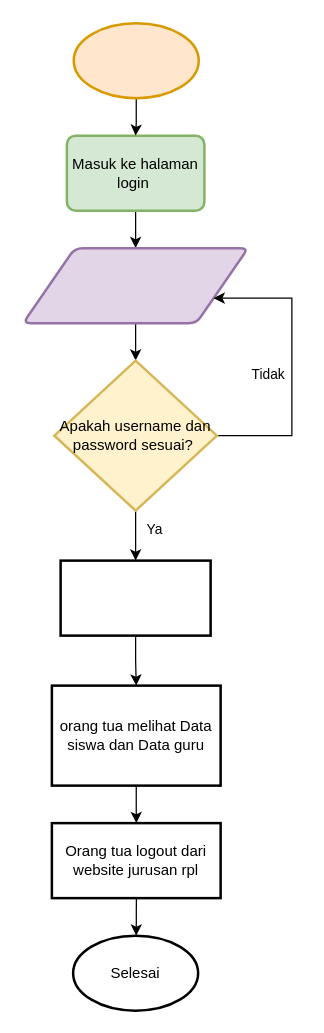
This 324x1033 diagram has some shape labels left out. The shapes that lost their labels are listed below. From the top down, each one's centre as x and y in pixels, then its label:
(135,60): Masuk
(135,285): Input username dan password sebagai orang tua
(135,597): Berhasil masuk sebagai orang tua
